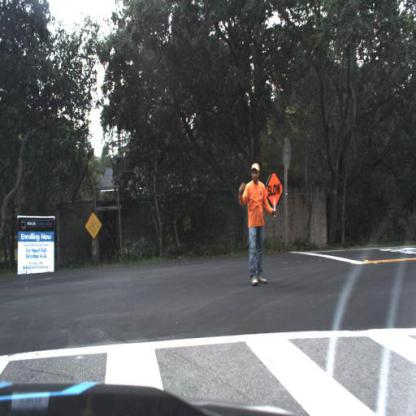pedestrian: (236, 164, 283, 288)
